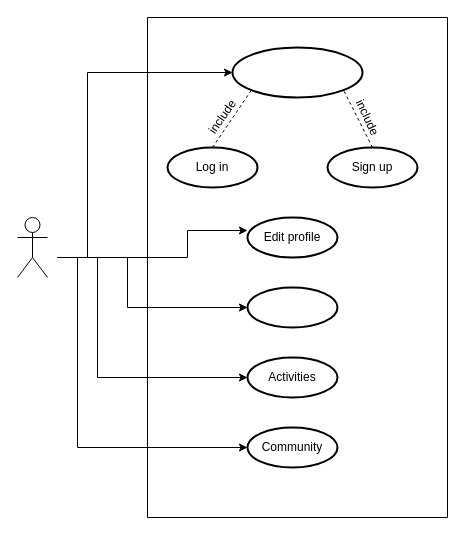
Image size: 465x535. Some labels were removed from this diagram. The centre of each missing label's shape, as x and y in pixels:
"Authentication" belongs at point (297, 72).
"User" belongs at point (32, 247).
"Workouts" belongs at point (292, 307).
